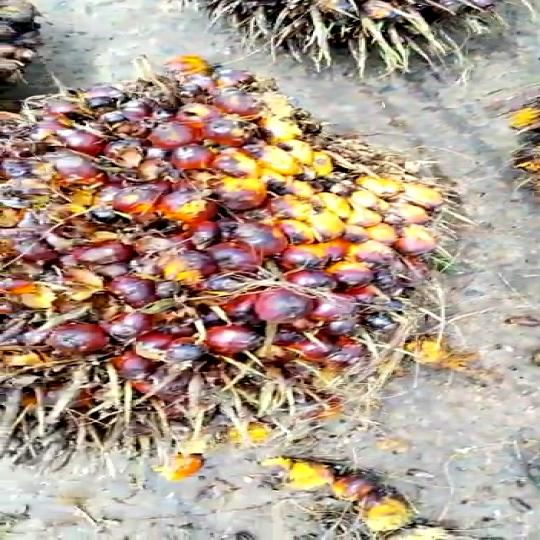masak: (0, 52, 434, 472)
